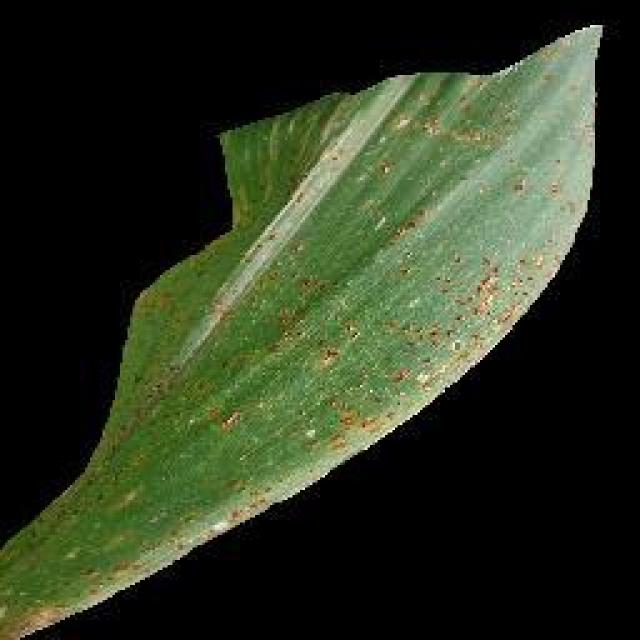Corn Common Rust: (200, 182, 493, 406)
